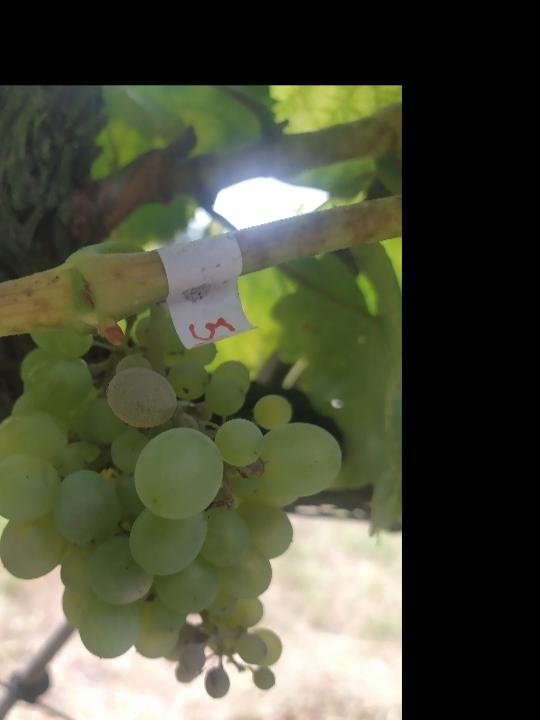grape: (0, 312, 346, 700)
